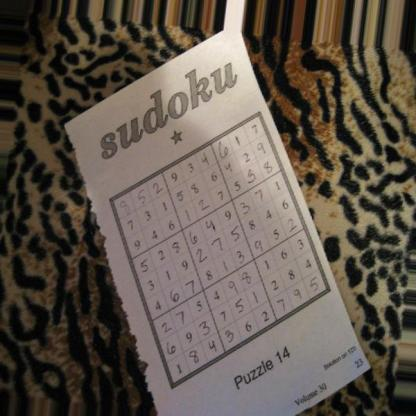sudoku: (106, 107, 335, 393)
